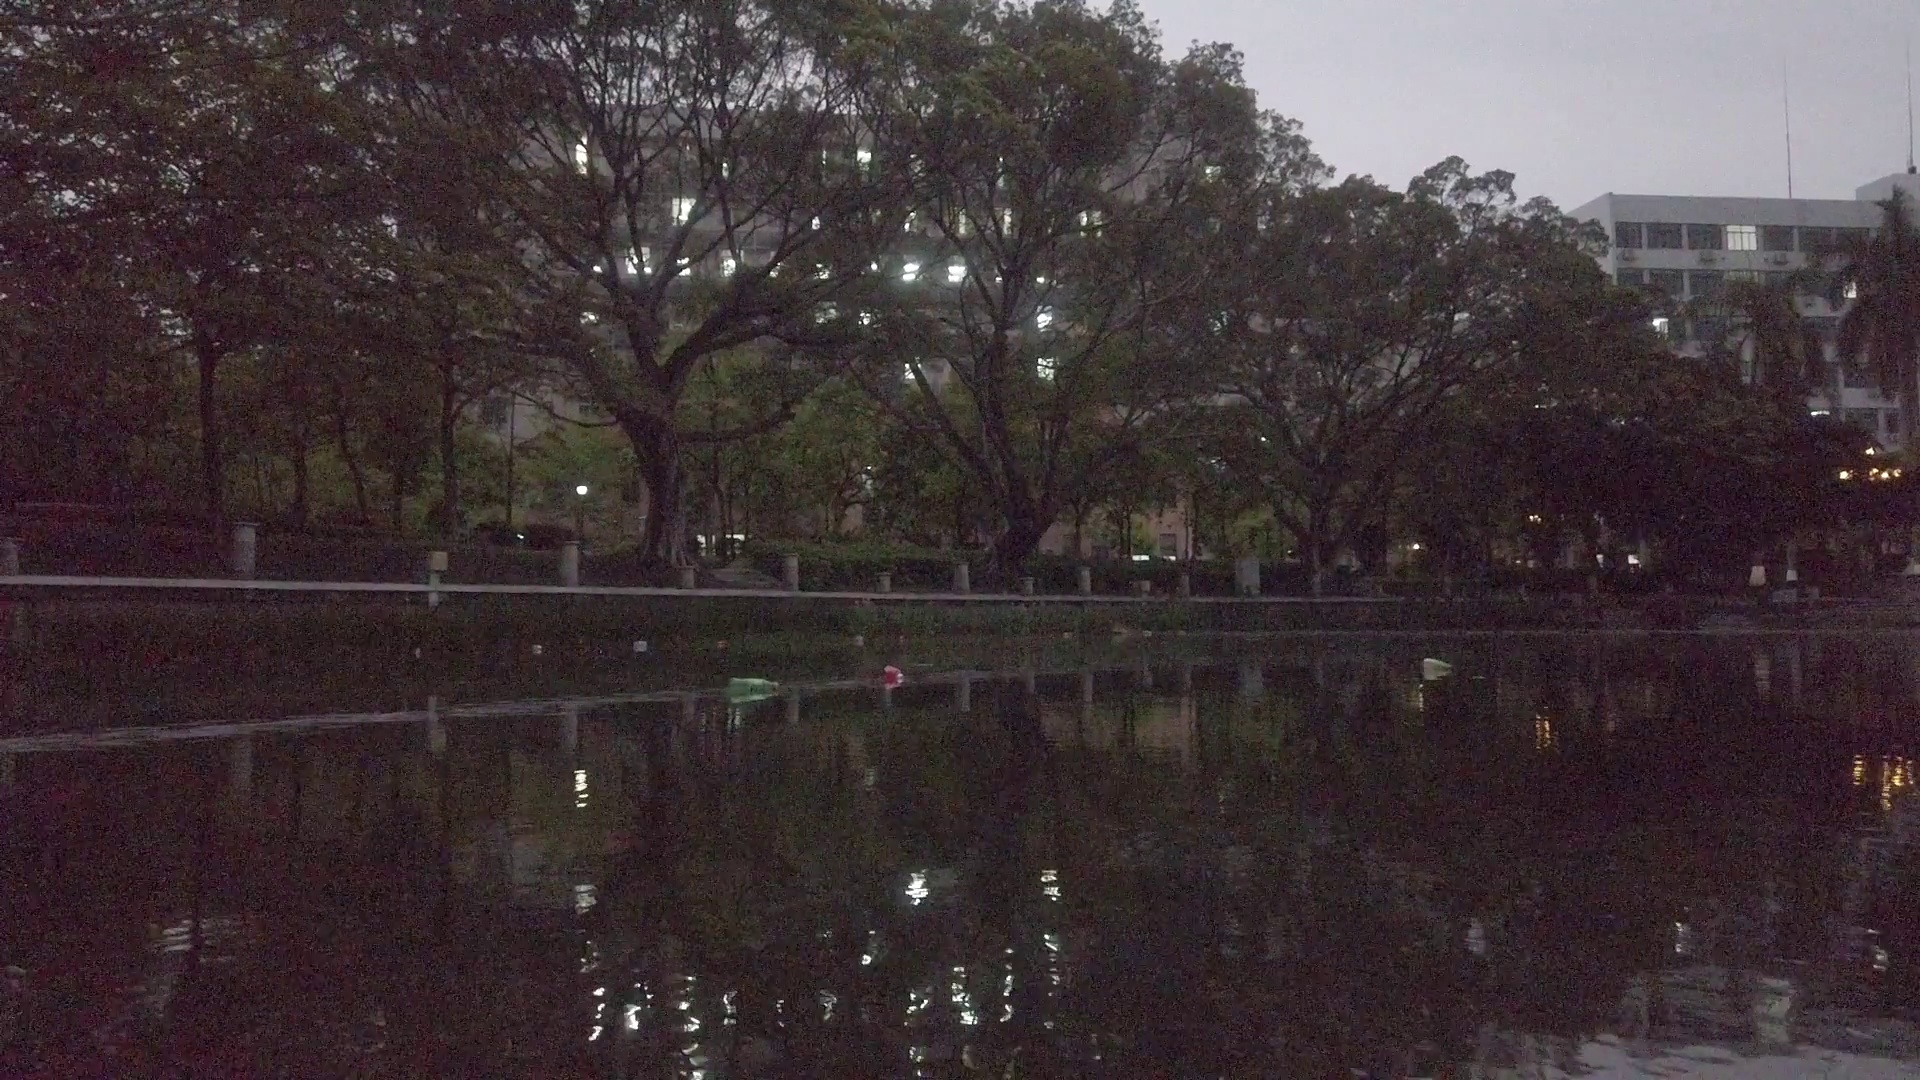bottle: (731, 675, 781, 698), (1422, 657, 1452, 673), (884, 665, 907, 684), (527, 644, 547, 655), (713, 636, 728, 647), (853, 636, 868, 644)
carton: (632, 632, 651, 655)
